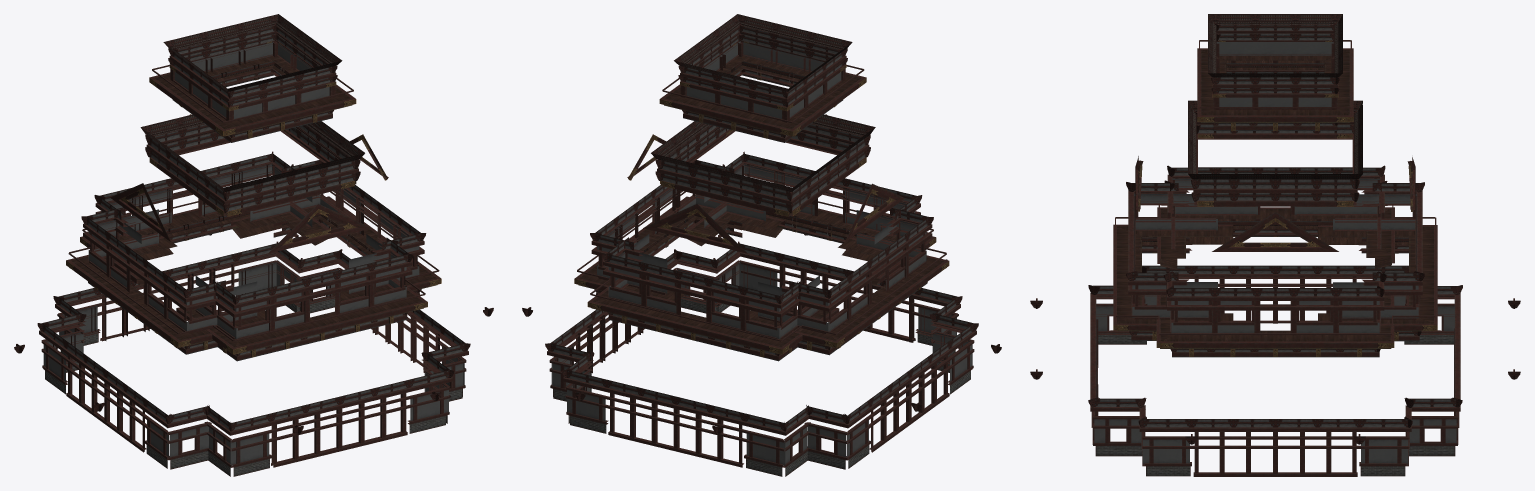
Rendered from Wall.fbx.
The picture shows the model from 3 angles, left to right: view 1: azimuth 30°, elevation 25°; view 2: azimuth 150°, elevation 25°; view 3: azimuth 270°, elevation 25°; orthographic projection. The views are drawn at different scales.
Visible parts, largest first — view 1: qiang_ti; view 2: qiang_ti; view 3: qiang_ti.
Part boxes in pixels (x1=…): qiang_ti: x1=14, y1=14, x2=493, y2=476; qiang_ti: x1=522, y1=14, x2=1001, y2=476; qiang_ti: x1=1030, y1=14, x2=1520, y2=476.
Size of the model in its own units: 1530 by 1233 by 1538.
Materials: 1 (1 with a texture image).
